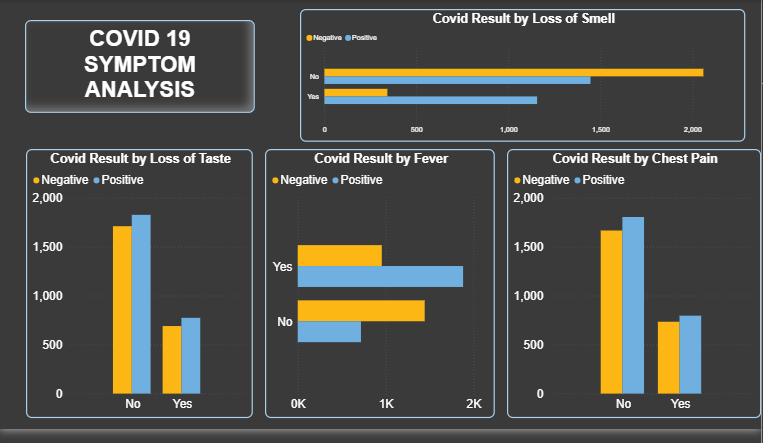

What the dashboard file says about the page in this screenshot:
{"tool":"powerbi","page":{"name":"Page 2","canvas":[1280,720],"ordinal":1},"visuals":[{"type":"clusteredBarChart","title":"Covid Result by Fever","fields":{"Category":["covid19_patient_symptoms_diagno.fever"],"Series":["covid19_patient_symptoms_diagno.covid_result"],"Y":["CountNonNull(covid19_patient_symptoms_diagno.covid_result)"]},"box":[446.8,250.3,386.4,451.9],"z":0},{"type":"clusteredBarChart","title":"Covid Result by Loss of Smell","fields":{"Category":["covid19_patient_symptoms_diagno.loss_of_smell"],"Series":["covid19_patient_symptoms_diagno.covid_result"],"Y":["CountNonNull(covid19_patient_symptoms_diagno.covid_result)"]},"box":[505.6,15.1,747.5,223.4],"z":1000},{"type":"clusteredColumnChart","title":"Covid Result by Loss of Taste","fields":{"Category":["covid19_patient_symptoms_diagno.loss_of_taste"],"Series":["covid19_patient_symptoms_diagno.covid_result"],"Y":["CountNonNull(covid19_patient_symptoms_diagno.covid_result)"]},"box":[45.4,250.3,381.3,451.9],"z":2000},{"type":"clusteredColumnChart","title":"Covid Result by Chest Pain","fields":{"Category":["covid19_patient_symptoms_diagno.chest_pain"],"Series":["covid19_patient_symptoms_diagno.covid_result"],"Y":["CountNonNull(covid19_patient_symptoms_diagno.covid_result)"]},"box":[853.3,250.3,426.7,451.9],"z":3000},{"type":"textbox","box":[43.7,33.6,386.4,156.2],"z":4000}]}

Visuals, with their boxes in screenshot pixels (x1, y1, x2, y2):
"Covid Result by Fever" clusteredBarChart: {"x1": 265, "y1": 149, "x2": 492, "y2": 415}
"Covid Result by Loss of Smell" clusteredBarChart: {"x1": 299, "y1": 11, "x2": 739, "y2": 142}
"Covid Result by Loss of Taste" clusteredColumnChart: {"x1": 29, "y1": 149, "x2": 253, "y2": 415}
"Covid Result by Chest Pain" clusteredColumnChart: {"x1": 504, "y1": 149, "x2": 754, "y2": 415}
textbox: {"x1": 28, "y1": 22, "x2": 255, "y2": 114}
